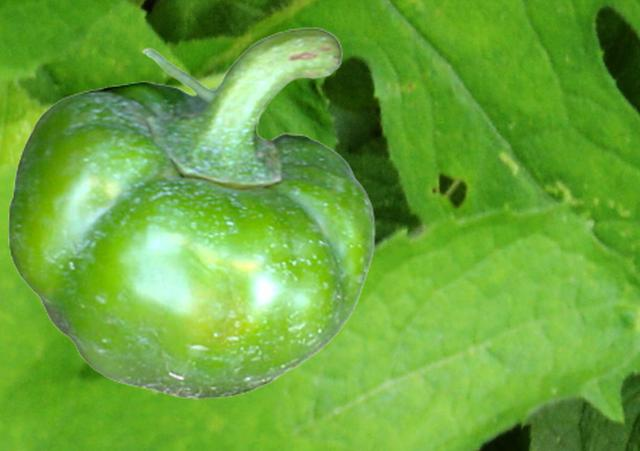bell_pepper: (8, 26, 374, 398)
